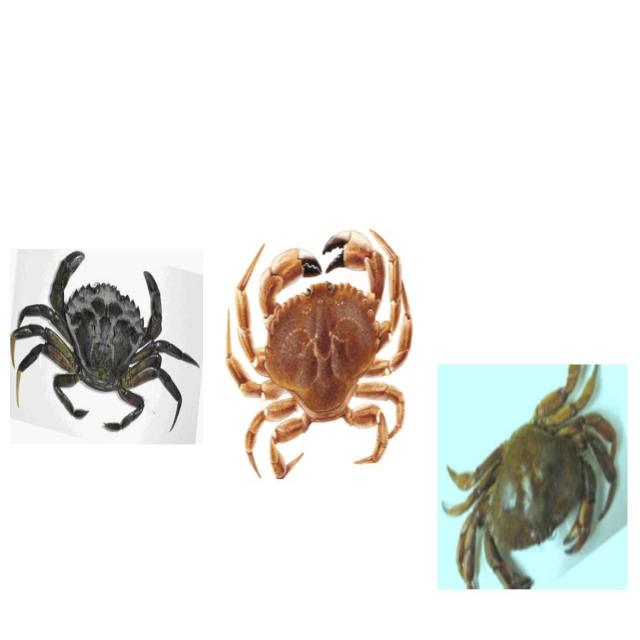egc: (11, 250, 200, 434)
